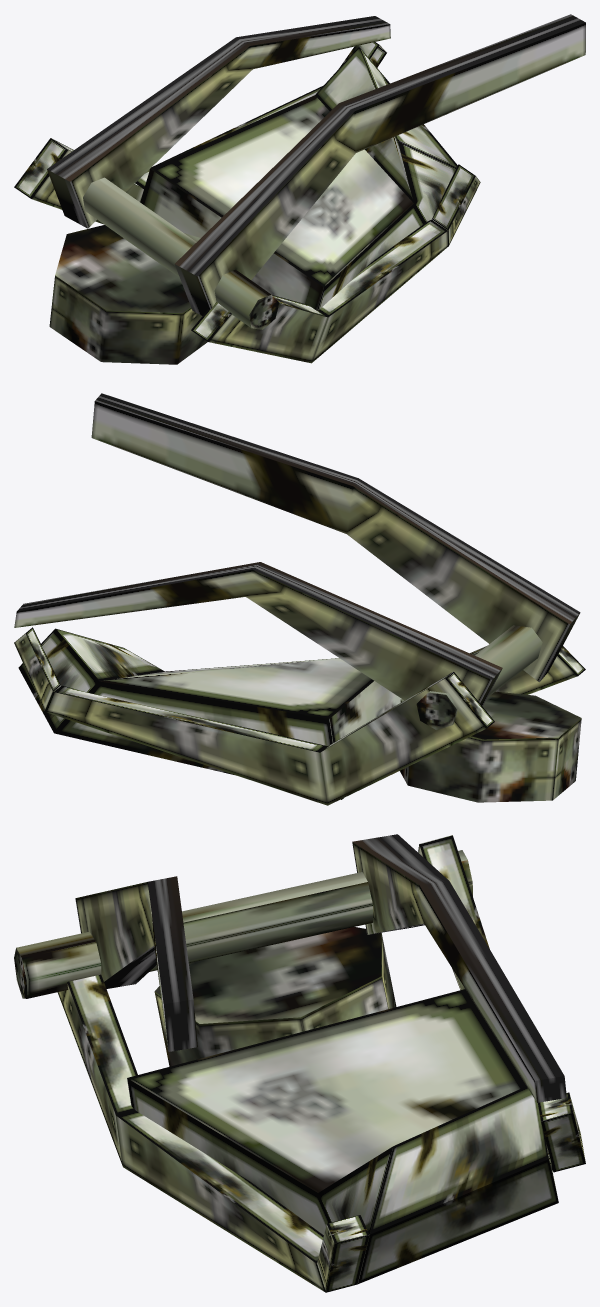
Rendered from China - Armor - Listening Outpost - Damage State 5 - NVLOutpost_D5.glb.
3 views of the same model, one above another, from view 1: azimuth 30°, elevation 25°; view 2: azimuth 150°, elevation 25°; view 3: azimuth 270°, elevation 25° (orthographic). The views are drawn at different scales.
Visible parts, largest first — view 1: NVLOUTPOST_D5; view 2: NVLOUTPOST_D5; view 3: NVLOUTPOST_D5.
Boxes of the visible parts, left/top/right/bottom form: NVLOUTPOST_D5: left=14, top=14, right=585, bottom=364; NVLOUTPOST_D5: left=14, top=393, right=585, bottom=805; NVLOUTPOST_D5: left=14, top=834, right=585, bottom=1292.
Bounding box in the file's own units: 9.89 × 5.11 × 7.37.
Materials: 1 (1 with a texture image).
